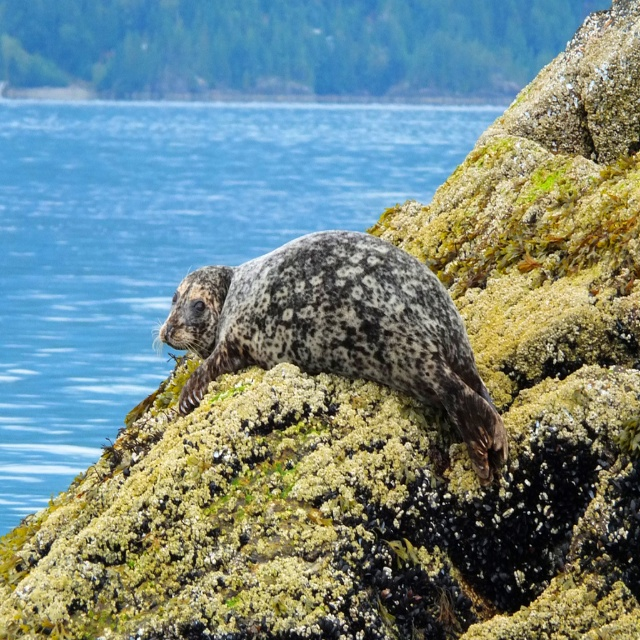Harbor seal: (134, 236, 496, 460)
